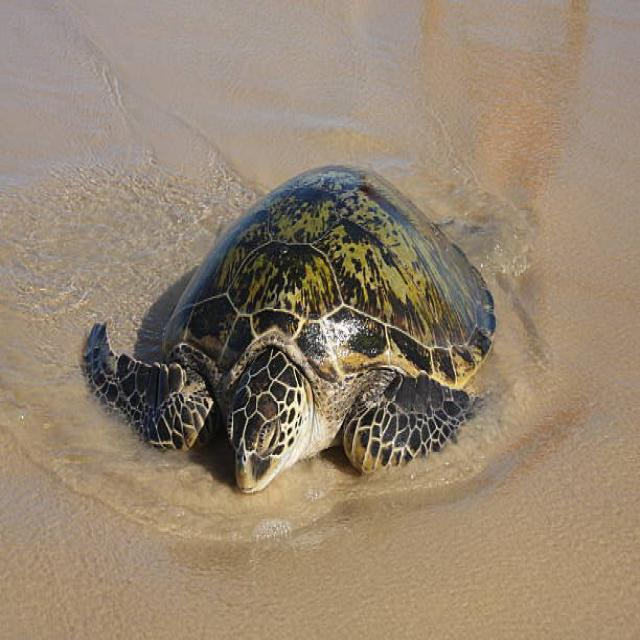sea turtle: (155, 148, 512, 408), (75, 305, 213, 466), (326, 364, 505, 485), (218, 346, 310, 502)
